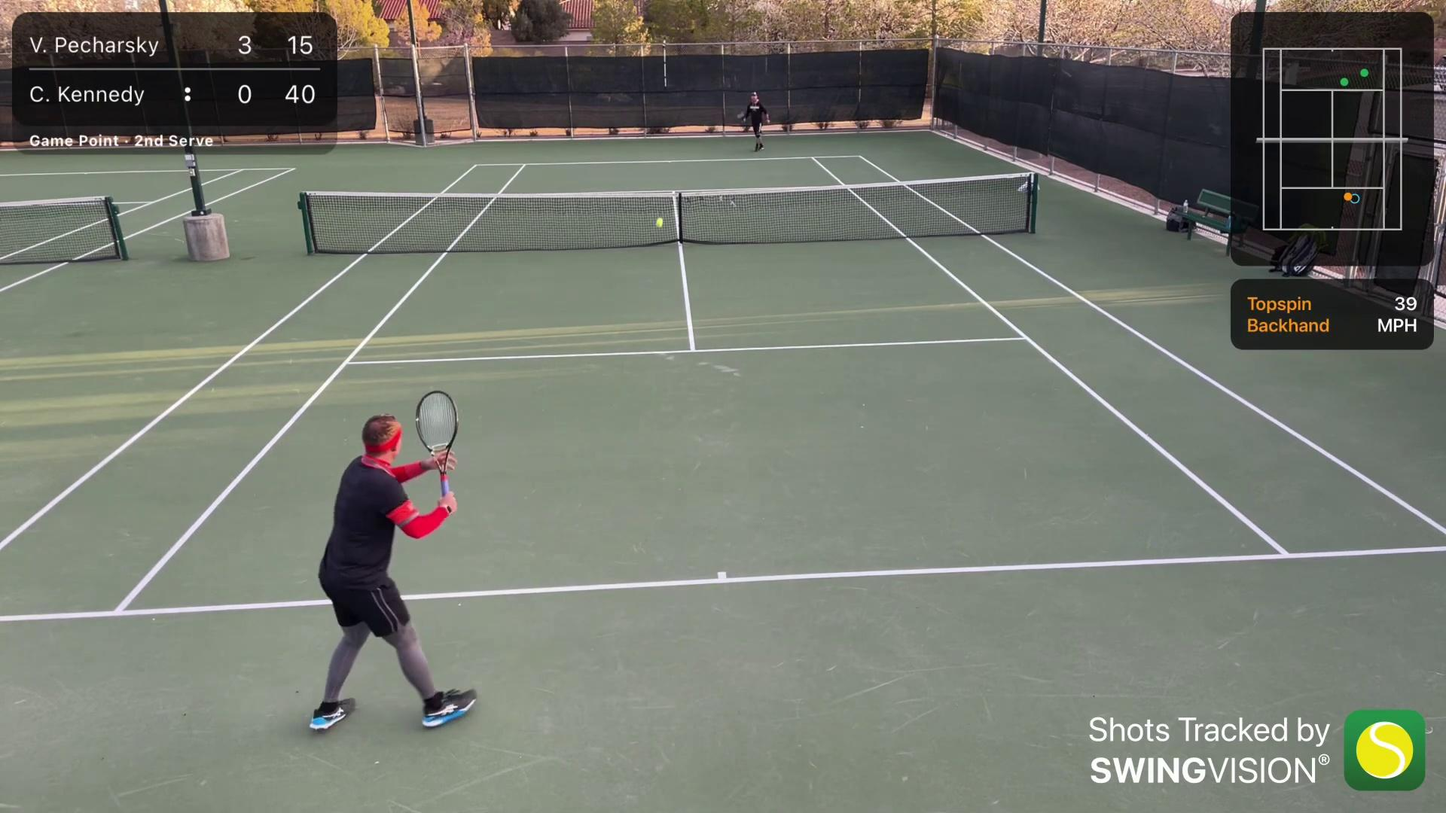ball: (655, 216, 665, 229)
